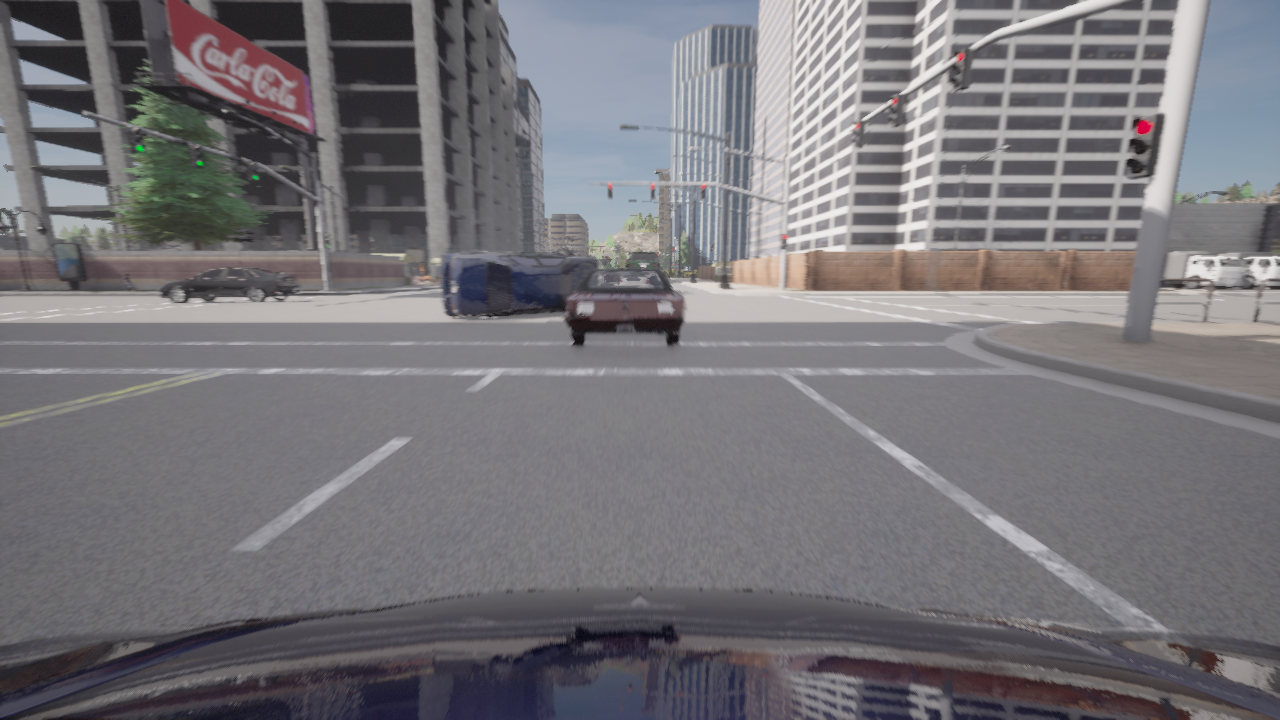cyclist: (0, 588, 1279, 719), (441, 249, 598, 317), (565, 269, 685, 344), (159, 266, 300, 303), (1160, 251, 1247, 289), (1201, 251, 1279, 289), (626, 252, 662, 269), (625, 267, 644, 268)
pedestrian: (124, 272, 132, 291)
